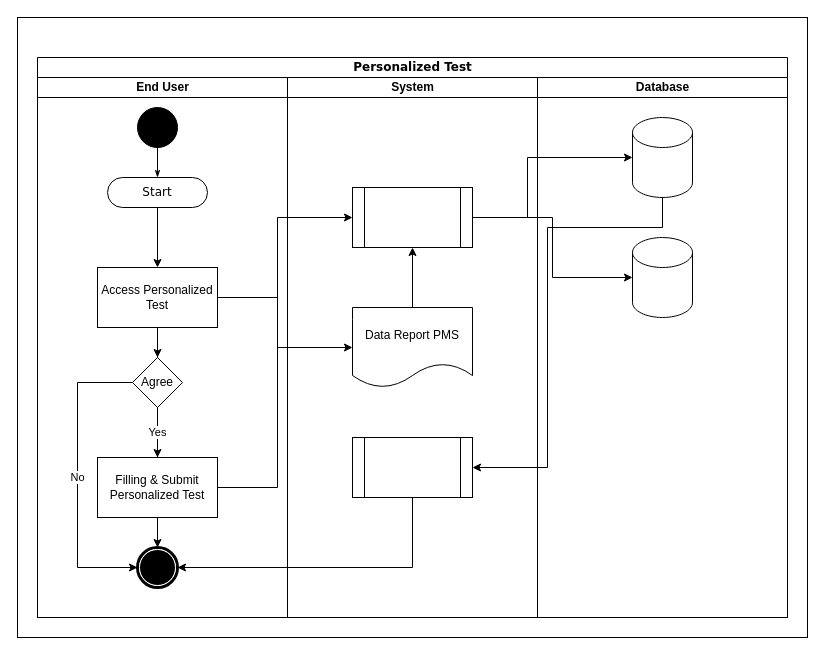
This 825x655 diagram has some shape labels left out. Here are the shapes that lost their labels. From the top down, the centre of each, then its label:
(x=662, y=157): Data Proven
(x=412, y=217): Save Data
(x=662, y=277): Data Autoclaim
(x=412, y=467): Email result
